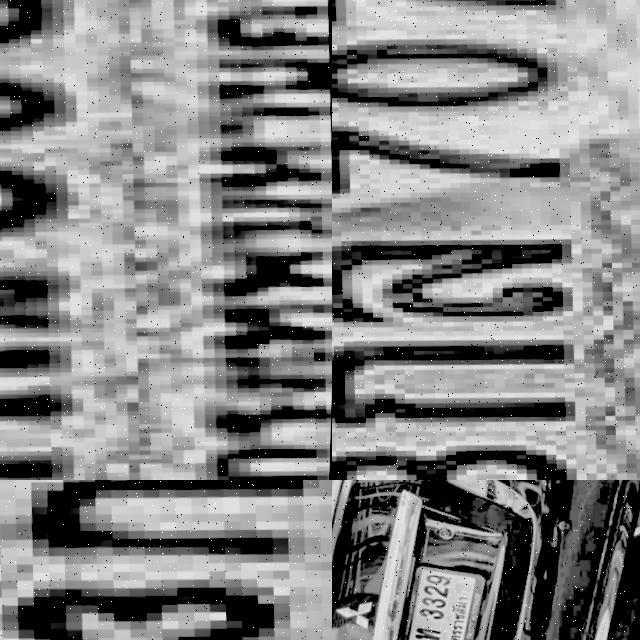license-plate: (0, 0, 332, 480), (332, 0, 640, 480), (0, 480, 332, 640), (386, 551, 501, 640)
